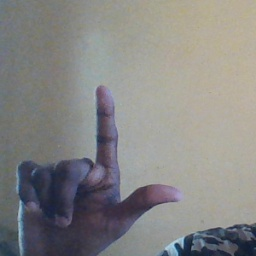L: (14, 84, 183, 256)
